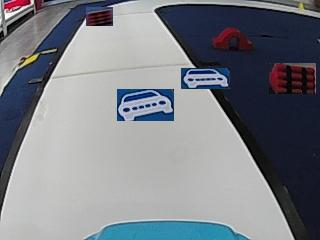bridge: (211, 25, 252, 51)
